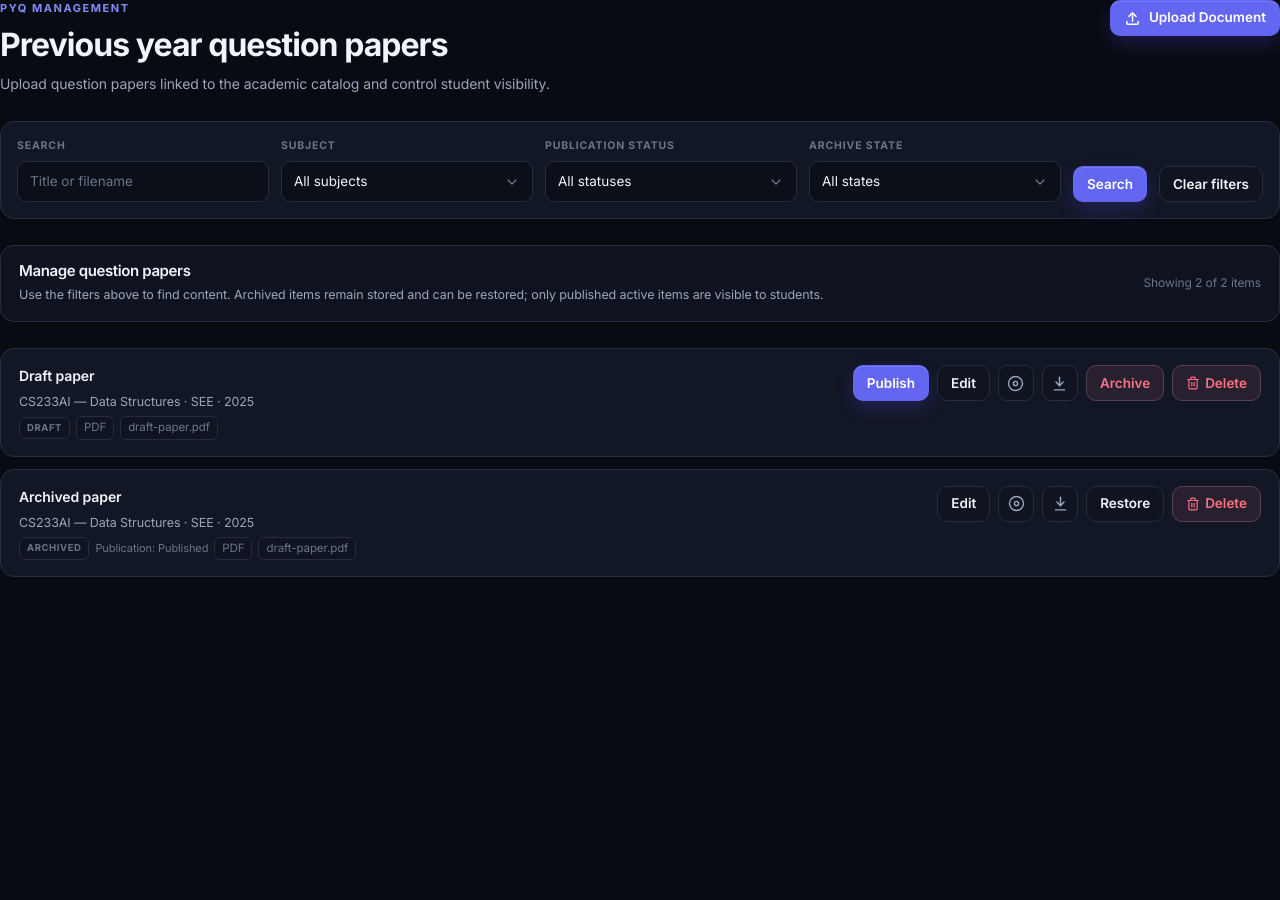
AdminContentManager lifecycle states › cancels deletion when Cancel button is clicked in confirmation dialog
The image size is (1280, 900).
Expected: the text "Draft paper" is shown, [19,365,94,387]
Click the button with aria-label "Delete Draft paper". click: coordinates (1217, 383)
box: [1172,365,1261,401]
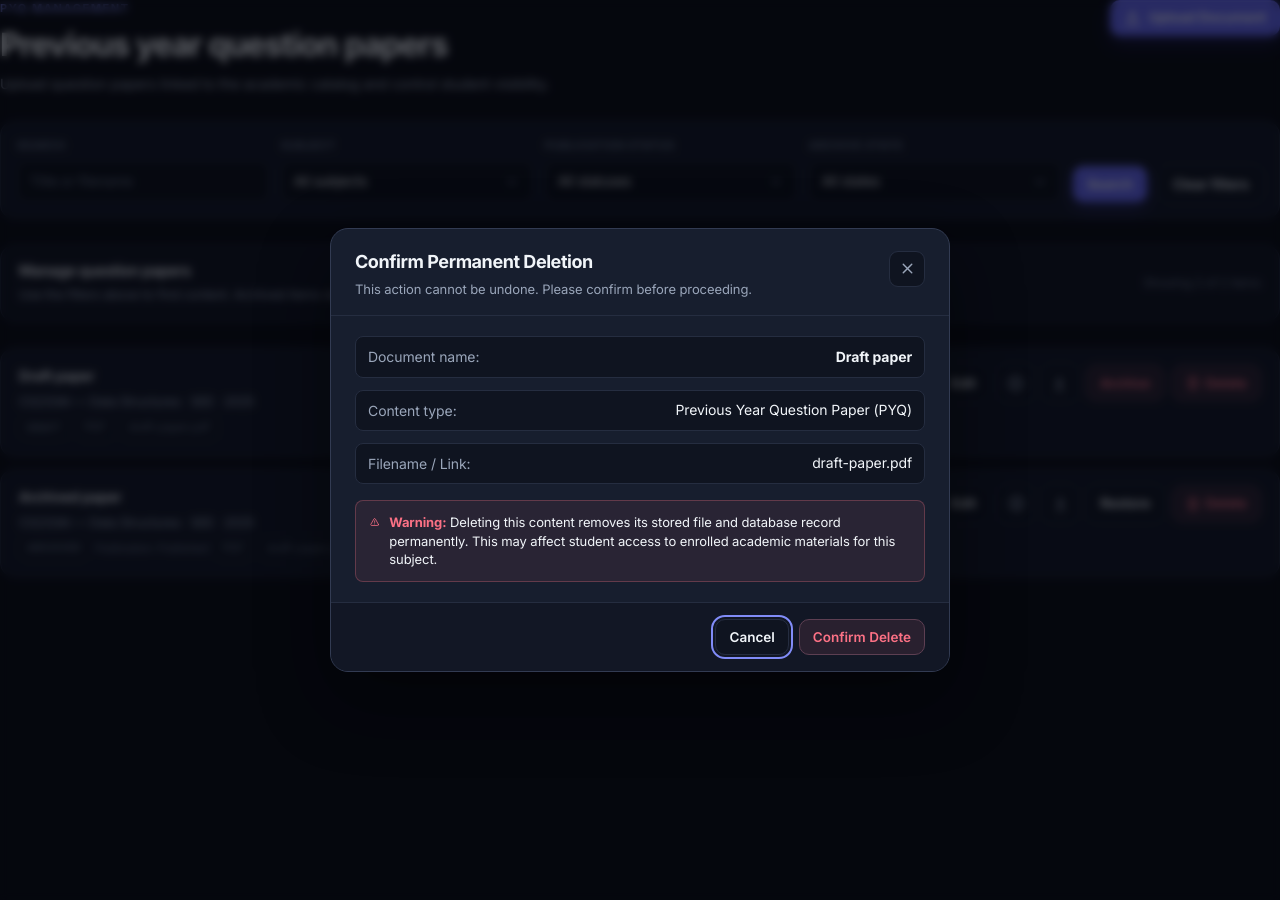
Expected: the heading "Confirm Permanent Deletion" is shown, [355,251,593,272]
Expected: the text "Draft paper" is shown, [836,346,912,368]
Expected: the text "Previous Year Question Paper (PYQ)" is shown, [675,399,912,421]
Click the button "Cancel". click: coordinates (752, 637)
box: [716,619,789,655]
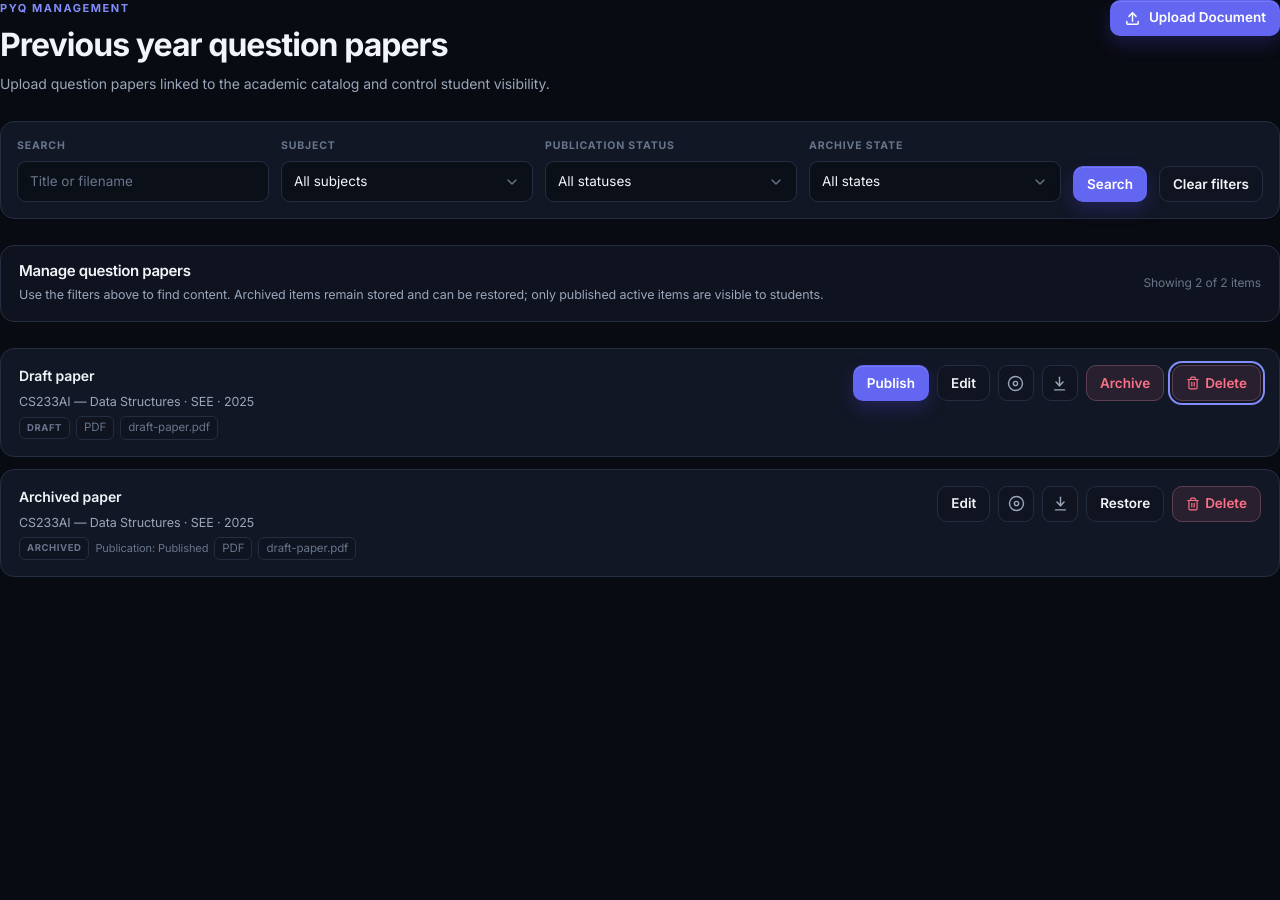
Expected: the text "Draft paper" is shown, [19,365,94,387]
Expected: the dialog is gone
